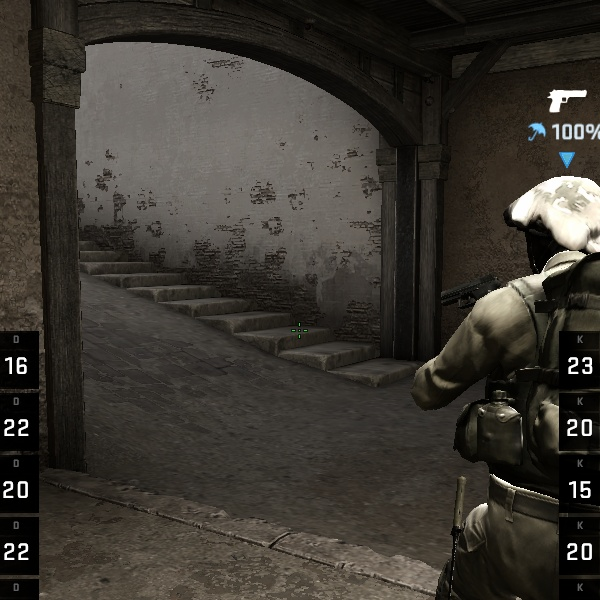ct_body: (424, 156, 597, 600)
ct_head: (497, 164, 593, 285)
